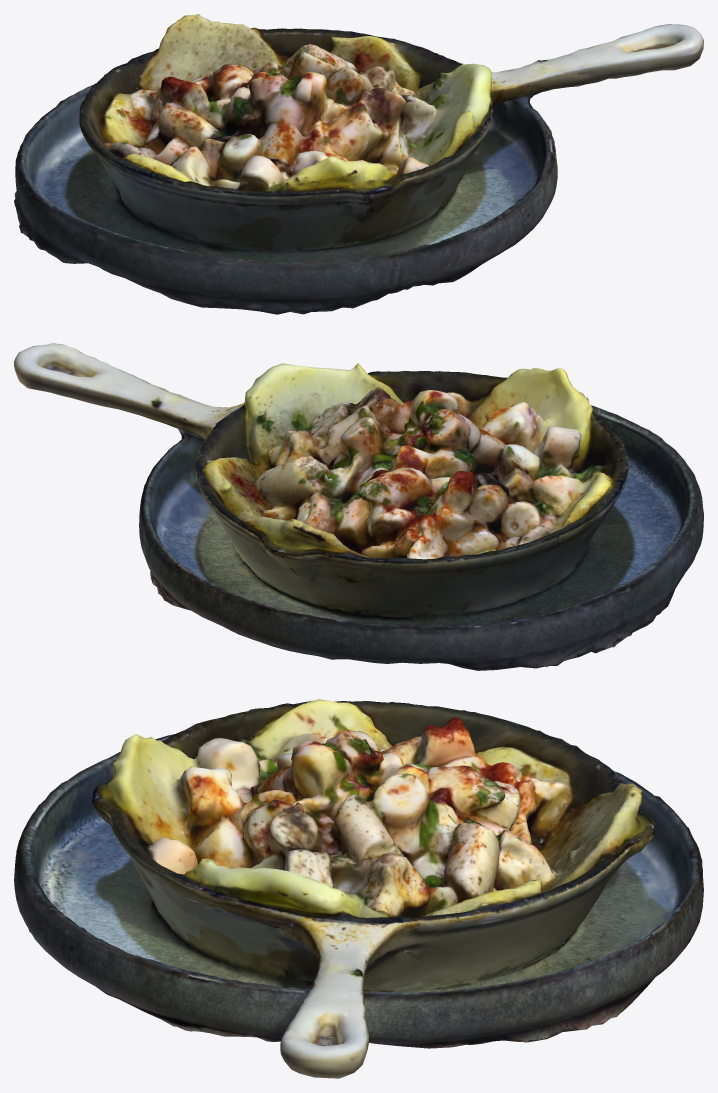
Rendered from poulpe-a-la-galicienne.ar.glb.
3 renders of one model, top to bottom at view 1: azimuth 30°, elevation 25°; view 2: azimuth 150°, elevation 25°; view 3: azimuth 270°, elevation 25°, orthographic. The views are drawn at different scales.
Visible parts, largest first — view 1: /ObjectCapture/Geometry/Mesh; view 2: /ObjectCapture/Geometry/Mesh; view 3: /ObjectCapture/Geometry/Mesh.
Boxes of the visible parts, <box> form: /ObjectCapture/Geometry/Mesh: <box>14,14,703,314</box>; /ObjectCapture/Geometry/Mesh: <box>14,343,703,670</box>; /ObjectCapture/Geometry/Mesh: <box>14,699,703,1078</box>.
Bounding box in the file's own units: 0.2783 × 0.0616 × 0.2063.
1 material, 1 textured.
